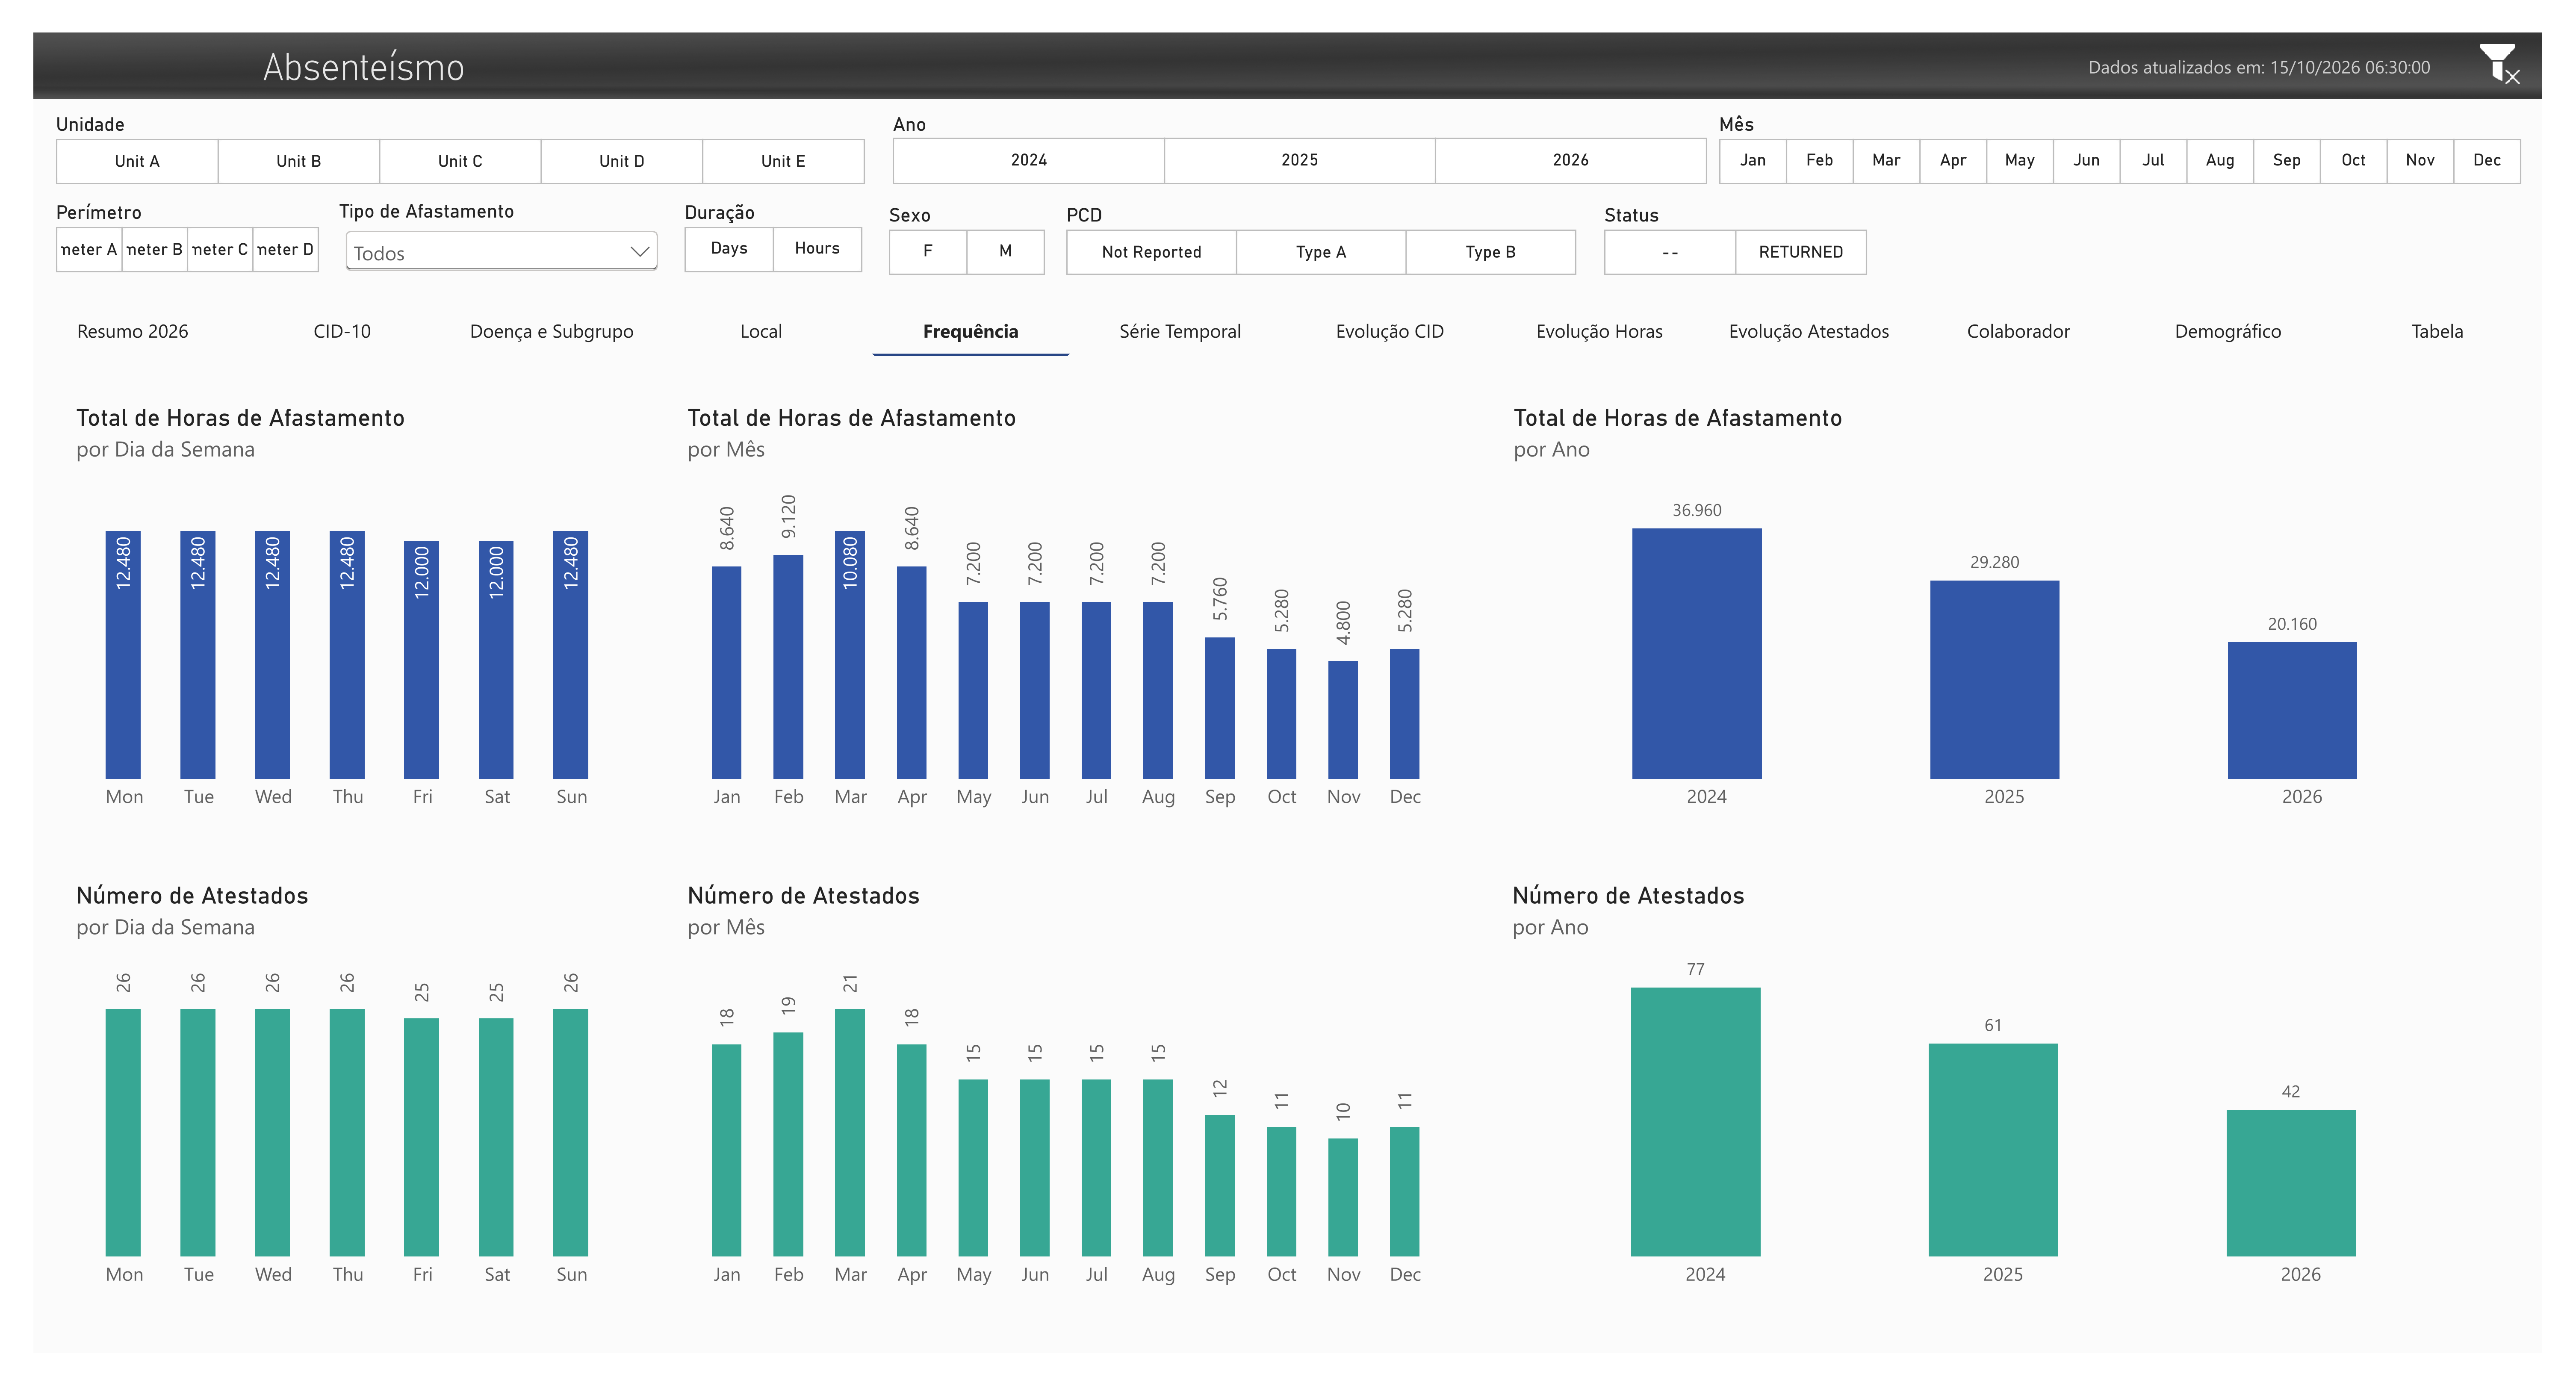

The dashboard page shown, as its layout file describes it:
{"tool":"powerbi","page":{"name":"Frequência","canvas":[1880,990],"ordinal":4},"visuals":[{"type":"columnChart","fields":{"Category":["d_calendario.dia_semama_sigla"],"Y":["Medidas.Total de Horas de Afastamento"]},"box":[16.2,264,440,340],"z":0},{"type":"columnChart","fields":{"Category":["d_calendario.nome_mes_abrev"],"Y":["Medidas.Total de Horas de Afastamento"]},"box":[473.8,264,600,340],"z":1000},{"type":"columnChart","fields":{"Category":["d_calendario.ano"],"Y":["Medidas.Total de Horas de Afastamento"]},"box":[1092.5,264,768,340],"z":2000},{"type":"columnChart","fields":{"Category":["d_calendario.dia_semama_sigla"],"Y":["Medidas.Número de Atestados"]},"box":[16,622,440,340],"z":3000},{"type":"columnChart","fields":{"Category":["d_calendario.nome_mes_abrev"],"Y":["Medidas.Número de Atestados"]},"box":[473.8,622,600,340],"z":4000},{"type":"columnChart","fields":{"Category":["d_calendario.ano"],"Y":["Medidas.Número de Atestados"]},"box":[1092,622,768,340],"z":5000},{"type":"image","box":[0,0,1880,50],"z":6000},{"type":"pageNavigator","box":[0,205,1880,37.5],"z":7000},{"type":"textbox","box":[172.5,8.5,300.6,33],"z":9000},{"type":"cardVisual","fields":{"Data":["Medidas.Ultima Atualizacao Pipeline"]},"box":[1510.1,8.9,301.5,32.9],"z":10000},{"type":"image","box":[1828.9,9.4,36.7,30],"z":11000},{"type":"advancedSlicerVisual","title":"Sexo","fields":{"Values":["d_colab.desc_sexo"]},"box":[641.4,128.6,116.1,53],"z":11001},{"type":"advancedSlicerVisual","title":"Unidade","fields":{"Values":["f_abs.nome_unidade"]},"box":[17.1,61.4,610,52.9],"z":11002},{"type":"advancedSlicerVisual","title":"Mês","fields":{"Values":["d_calendario.nome_mes_abrev"]},"box":[1262.9,61.4,611.4,52.9],"z":11003},{"type":"advancedSlicerVisual","title":"Duração","fields":{"Values":["f_abs.flg_tipo_duracao"]},"box":[487.7,126.7,134.3,53.2],"z":11004},{"type":"advancedSlicerVisual","title":"PCD","fields":{"Values":["d_colab.desc_class_deficiencia"]},"box":[774.3,128.6,381.4,53],"z":11005},{"type":"slicer","title":"Tipo de Afastamento","fields":{"Values":["f_abs.desc_motivo_licenca"]},"box":[228.6,125.7,244.3,53],"z":11006},{"type":"advancedSlicerVisual","title":"Ano","fields":{"Values":["f_abs.ano_afastamento"]},"box":[643.8,61.2,610,52.5],"z":11007},{"type":"advancedSlicerVisual","title":"Perímetro","fields":{"Values":["d_colab.nome_perimetro"]},"box":[17.1,127.1,198.6,53],"z":11008},{"type":"advancedSlicerVisual","title":"Status","fields":{"Values":["f_abs.Status"]},"box":[1177.1,128.6,198,53],"z":11009}]}

Visuals, with their boxes on the page's 1880x990 design canvas (x1, y1, x2, y2). These are canvas units, not pixel positions in the 2576x1386 screenshot, which may show the page scaled, cropped or inside an application window:
columnChart - d_calendario.dia_semama_sigla x Medidas.Total de Horas de Afastamento: [16,264,456,604]
columnChart - d_calendario.nome_mes_abrev x Medidas.Total de Horas de Afastamento: [474,264,1074,604]
columnChart - d_calendario.ano x Medidas.Total de Horas de Afastamento: [1092,264,1860,604]
columnChart - d_calendario.dia_semama_sigla x Medidas.Número de Atestados: [16,622,456,962]
columnChart - d_calendario.nome_mes_abrev x Medidas.Número de Atestados: [474,622,1074,962]
columnChart - d_calendario.ano x Medidas.Número de Atestados: [1092,622,1860,962]
image: [0,0,1880,50]
pageNavigator: [0,205,1880,242]
textbox: [172,8,473,42]
cardVisual - Medidas.Ultima Atualizacao Pipeline: [1510,9,1812,42]
image: [1829,9,1866,39]
"Sexo" advancedSlicerVisual: [641,129,758,182]
"Unidade" advancedSlicerVisual: [17,61,627,114]
"Mês" advancedSlicerVisual: [1263,61,1874,114]
"Duração" advancedSlicerVisual: [488,127,622,180]
"PCD" advancedSlicerVisual: [774,129,1156,182]
"Tipo de Afastamento" slicer: [229,126,473,179]
"Ano" advancedSlicerVisual: [644,61,1254,114]
"Perímetro" advancedSlicerVisual: [17,127,216,180]
"Status" advancedSlicerVisual: [1177,129,1375,182]
